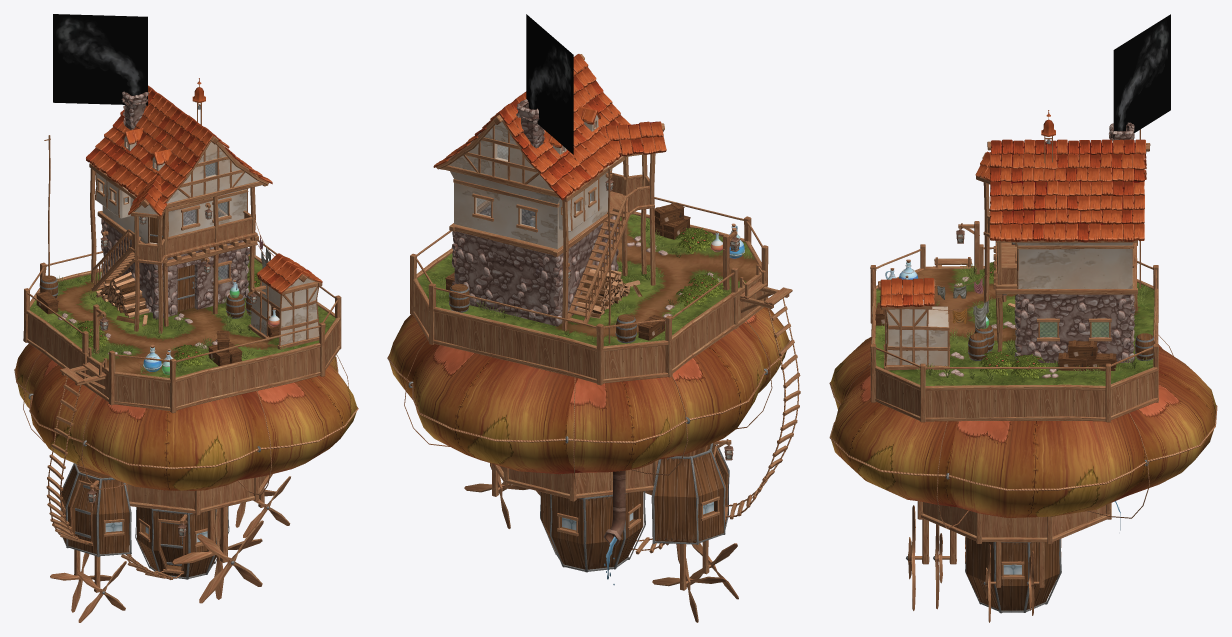
File: SketchfabFIXfinal.FBX
The picture shows the model from 3 angles, left to right: view 1: azimuth 30°, elevation 25°; view 2: azimuth 150°, elevation 25°; view 3: azimuth 270°, elevation 25°; orthographic projection. The views are drawn at different scales.
Visible parts, largest first — view 1: Balloon, Platform_WoodenParts, House_WoodenParts, woodbottomparts, BASEGRASS, RoofTiles, Bottomcabins, Smoke, House Plaster parts, StoneWallAndCornerStones, SHED_Plaster, SHED_ WoodenParts (+8 smaller); view 2: Balloon, Platform_WoodenParts, Bottomcabins, House_WoodenParts, BASEGRASS, RoofTiles, House Plaster parts, StoneWallAndCornerStones, woodbottomparts, Smoke, Ropes, SmallLeaves082 (+6 smaller); view 3: Balloon, RoofTiles, Platform_WoodenParts, BASEGRASS, woodbottomparts, StoneWallAndCornerStones, Smoke, House Plaster parts, House_WoodenParts, Bottomcabins, SHED_Plaster, SHED_ WoodenParts (+8 smaller).
Boxes of the visible parts, x1=… form: Balloon: x1=15, y1=344, x2=357, y2=490; Platform_WoodenParts: x1=23, y1=135, x2=341, y2=413; House_WoodenParts: x1=89, y1=84, x2=268, y2=333; woodbottomparts: x1=46, y1=384, x2=290, y2=622; BASEGRASS: x1=30, y1=256, x2=335, y2=377; RoofTiles: x1=86, y1=85, x2=322, y2=293; Bottomcabins: x1=60, y1=463, x2=229, y2=579; Smoke: x1=53, y1=14, x2=147, y2=105; House Plaster parts: x1=89, y1=136, x2=258, y2=243; StoneWallAndCornerStones: x1=101, y1=210, x2=249, y2=319; SHED_Plaster: x1=251, y1=278, x2=319, y2=345; SHED_ WoodenParts: x1=248, y1=274, x2=322, y2=349; Balloon: x1=388, y1=307, x2=789, y2=474; Platform_WoodenParts: x1=410, y1=168, x2=792, y2=385; Bottomcabins: x1=540, y1=443, x2=729, y2=572; House_WoodenParts: x1=436, y1=54, x2=664, y2=330; BASEGRASS: x1=417, y1=214, x2=760, y2=345; RoofTiles: x1=433, y1=54, x2=666, y2=199; House Plaster parts: x1=448, y1=115, x2=622, y2=249; StoneWallAndCornerStones: x1=451, y1=204, x2=618, y2=326; woodbottomparts: x1=464, y1=306, x2=800, y2=622; Smoke: x1=526, y1=14, x2=573, y2=154; Ropes: x1=387, y1=321, x2=789, y2=488; SmallLeaves082: x1=675, y1=227, x2=724, y2=307; Balloon: x1=830, y1=337, x2=1216, y2=517; RoofTiles: x1=880, y1=139, x2=1146, y2=307; Platform_WoodenParts: x1=870, y1=129, x2=1158, y2=422; BASEGRASS: x1=875, y1=269, x2=1154, y2=385; woodbottomparts: x1=908, y1=501, x2=1111, y2=622; StoneWallAndCornerStones: x1=1014, y1=294, x2=1135, y2=362; Smoke: x1=1113, y1=14, x2=1170, y2=138; House Plaster parts: x1=1016, y1=242, x2=1132, y2=288; House_WoodenParts: x1=976, y1=117, x2=1150, y2=353; Bottomcabins: x1=965, y1=537, x2=1061, y2=613; SHED_Plaster: x1=886, y1=306, x2=948, y2=365; SHED_ WoodenParts: x1=878, y1=279, x2=950, y2=370.
Bounding box in the file's own units: 1325 × 2246 × 1350.
